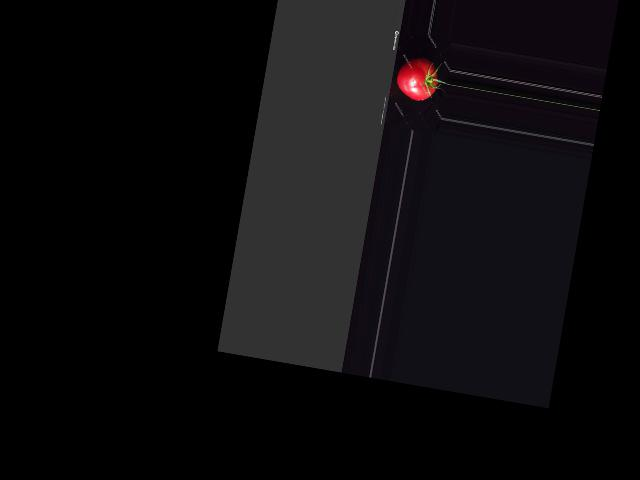tomato: (393, 54, 440, 103)
